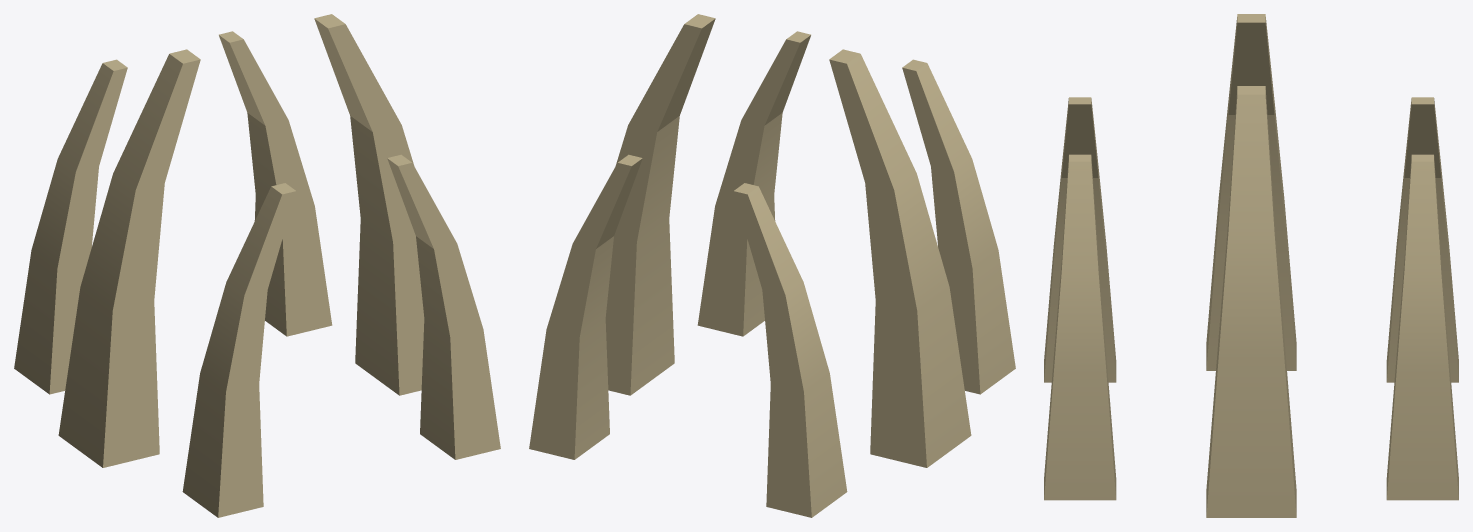
Rendered from Ossicle.glb.
3 renders of one model, left to right at view 1: azimuth 30°, elevation 25°; view 2: azimuth 150°, elevation 25°; view 3: azimuth 270°, elevation 25°, orthographic.
Visible parts, largest first — view 1: alienBones; view 2: alienBones; view 3: alienBones.
Part boxes in pixels (left/top/right/bottom): alienBones: left=14, top=14, right=500, bottom=517; alienBones: left=529, top=14, right=1015, bottom=517; alienBones: left=1044, top=14, right=1458, bottom=517.
Bounding box in the file's own units: 1 × 1 × 1.
